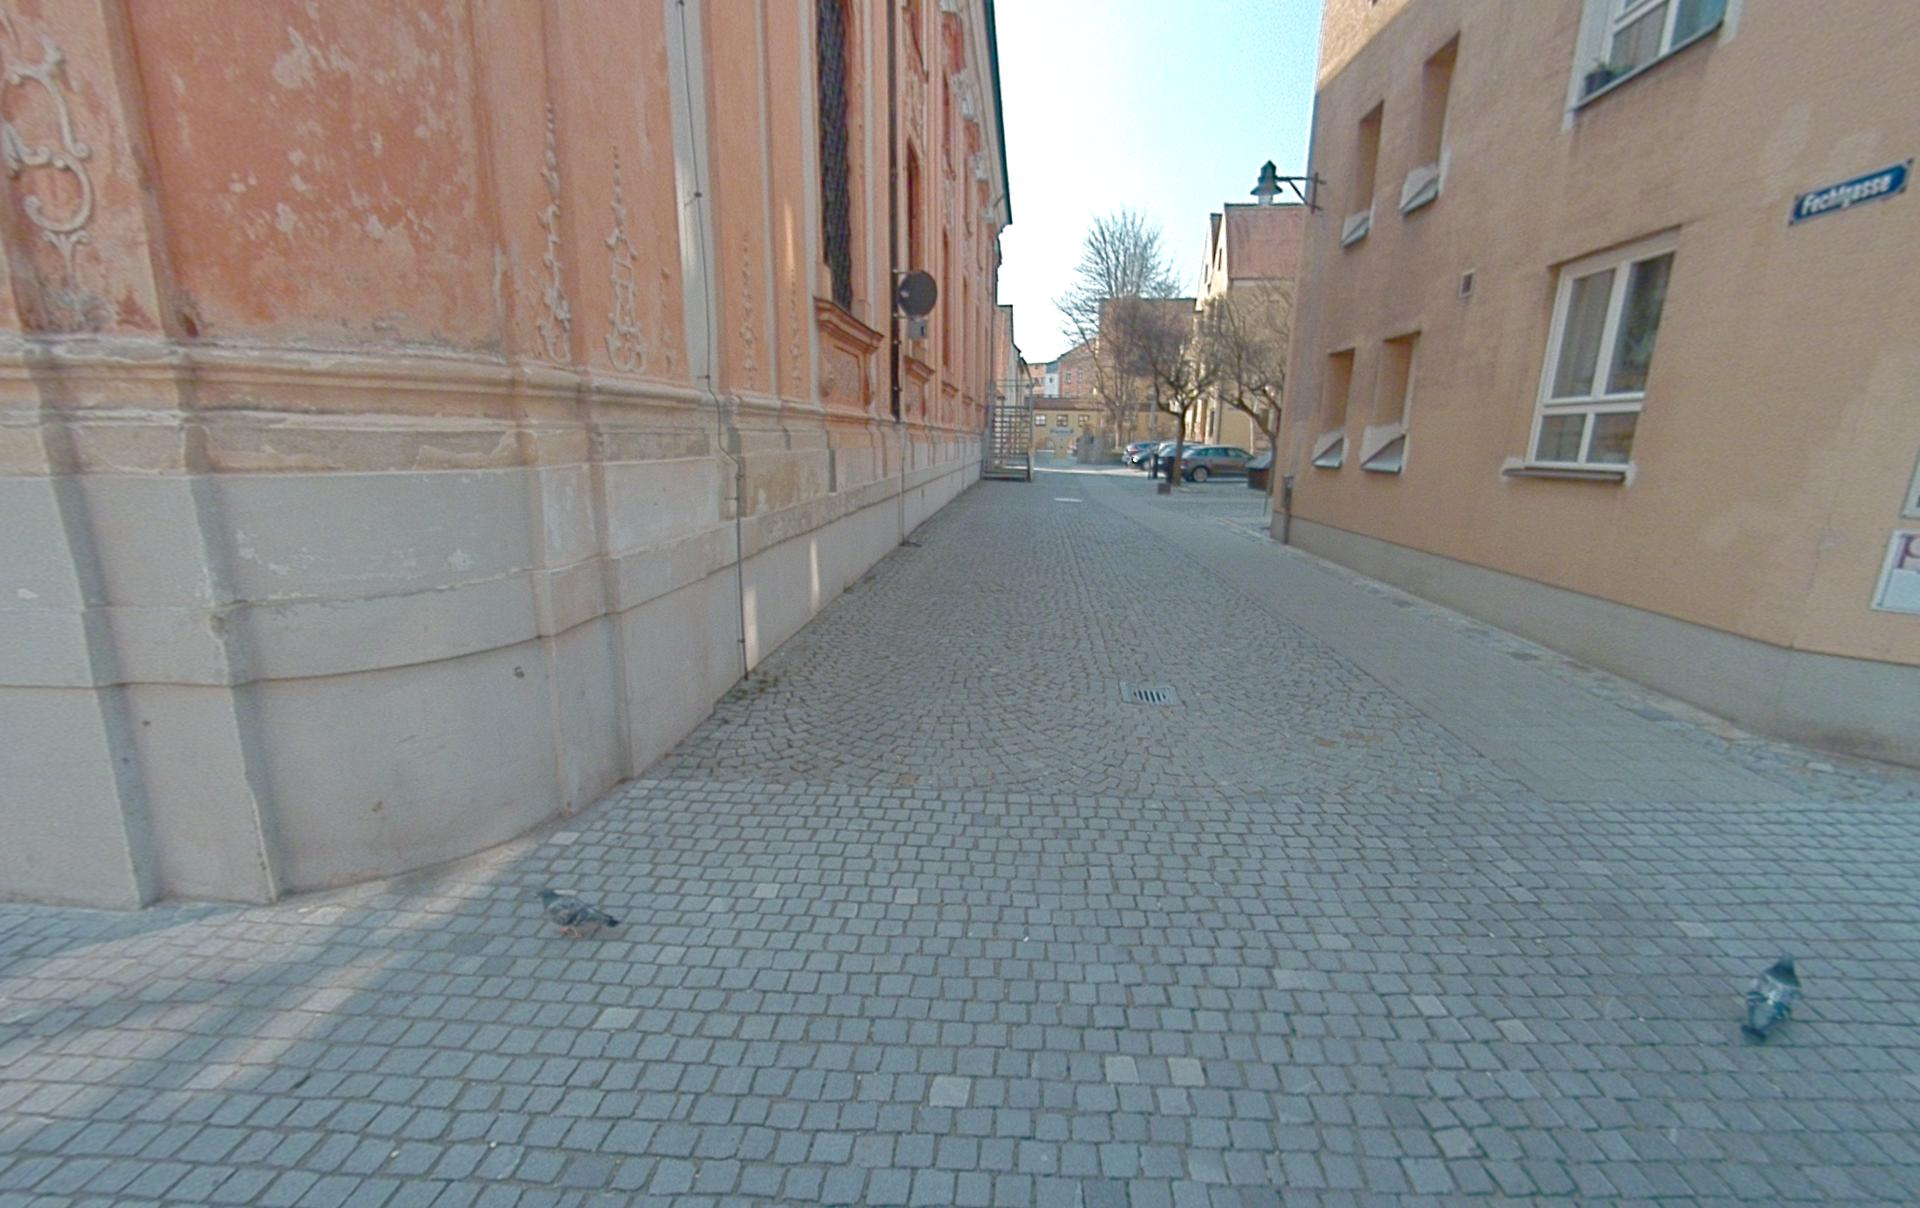car: (1180, 445, 1255, 483), (1144, 441, 1203, 476), (1123, 441, 1162, 468)
traffic sign: (1788, 159, 1912, 225)
